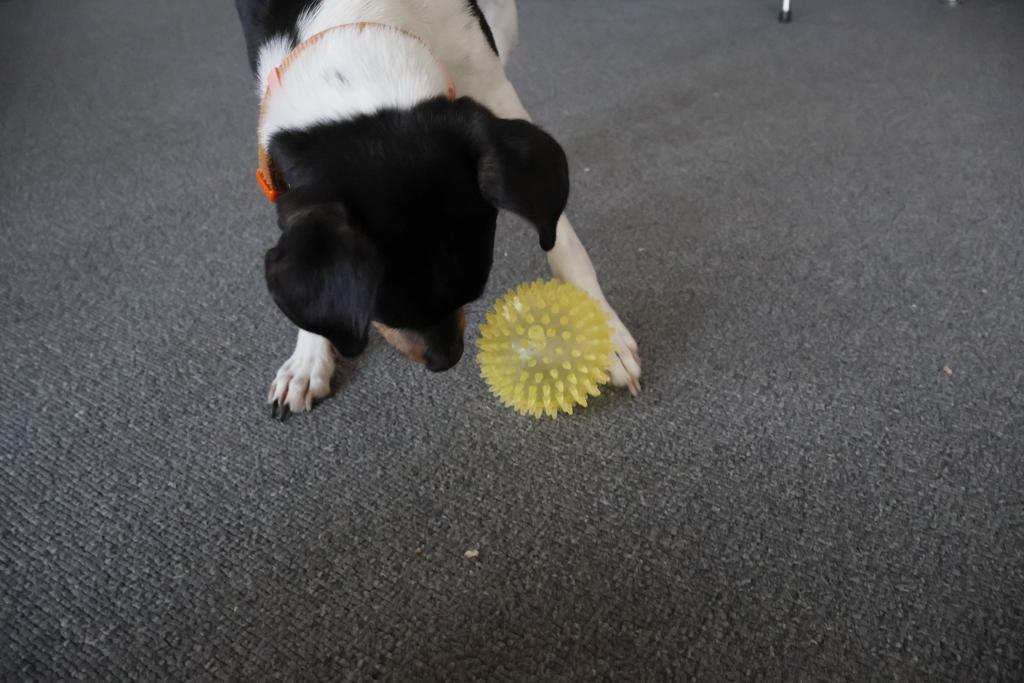Dog: (221, 0, 670, 441)
